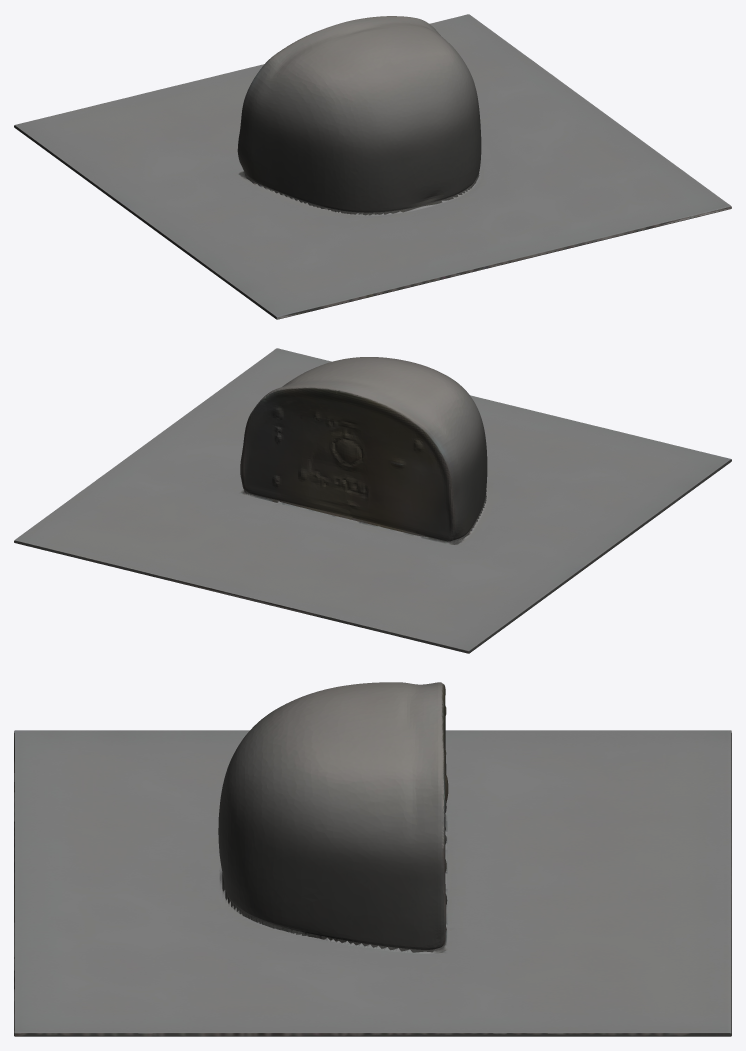
File: toecap.glb
The picture shows the model from 3 angles, top to bottom: view 1: azimuth 30°, elevation 25°; view 2: azimuth 150°, elevation 25°; view 3: azimuth 270°, elevation 25°; orthographic projection. The views are drawn at different scales.
Visible parts, largest first — view 1: textured_mesh.obj; view 2: textured_mesh.obj; view 3: textured_mesh.obj.
Boxes of the visible parts, x1,y1,x2,y2 form: textured_mesh.obj: (14, 14, 731, 319); textured_mesh.obj: (14, 348, 731, 653); textured_mesh.obj: (14, 682, 731, 1036).
Size of the model in its own units: 1.99 by 0.5407 by 1.99.
1 material, 1 textured.
